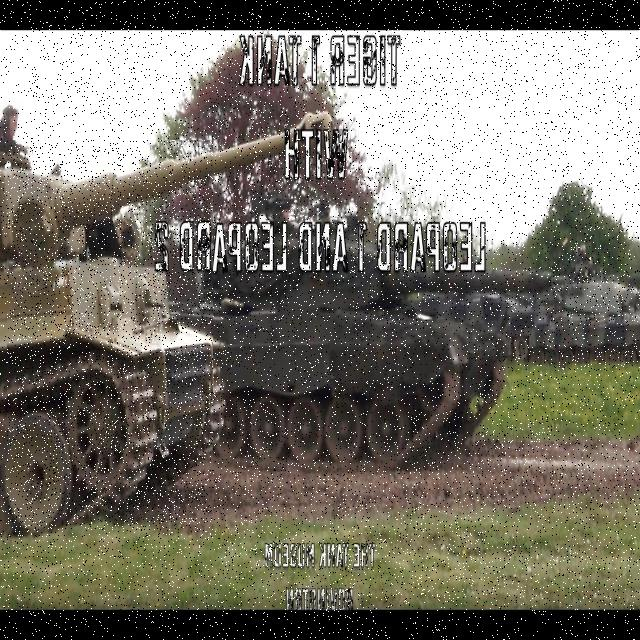MIL_MBT: (224, 217, 549, 465), (7, 141, 213, 530), (552, 256, 637, 368)
